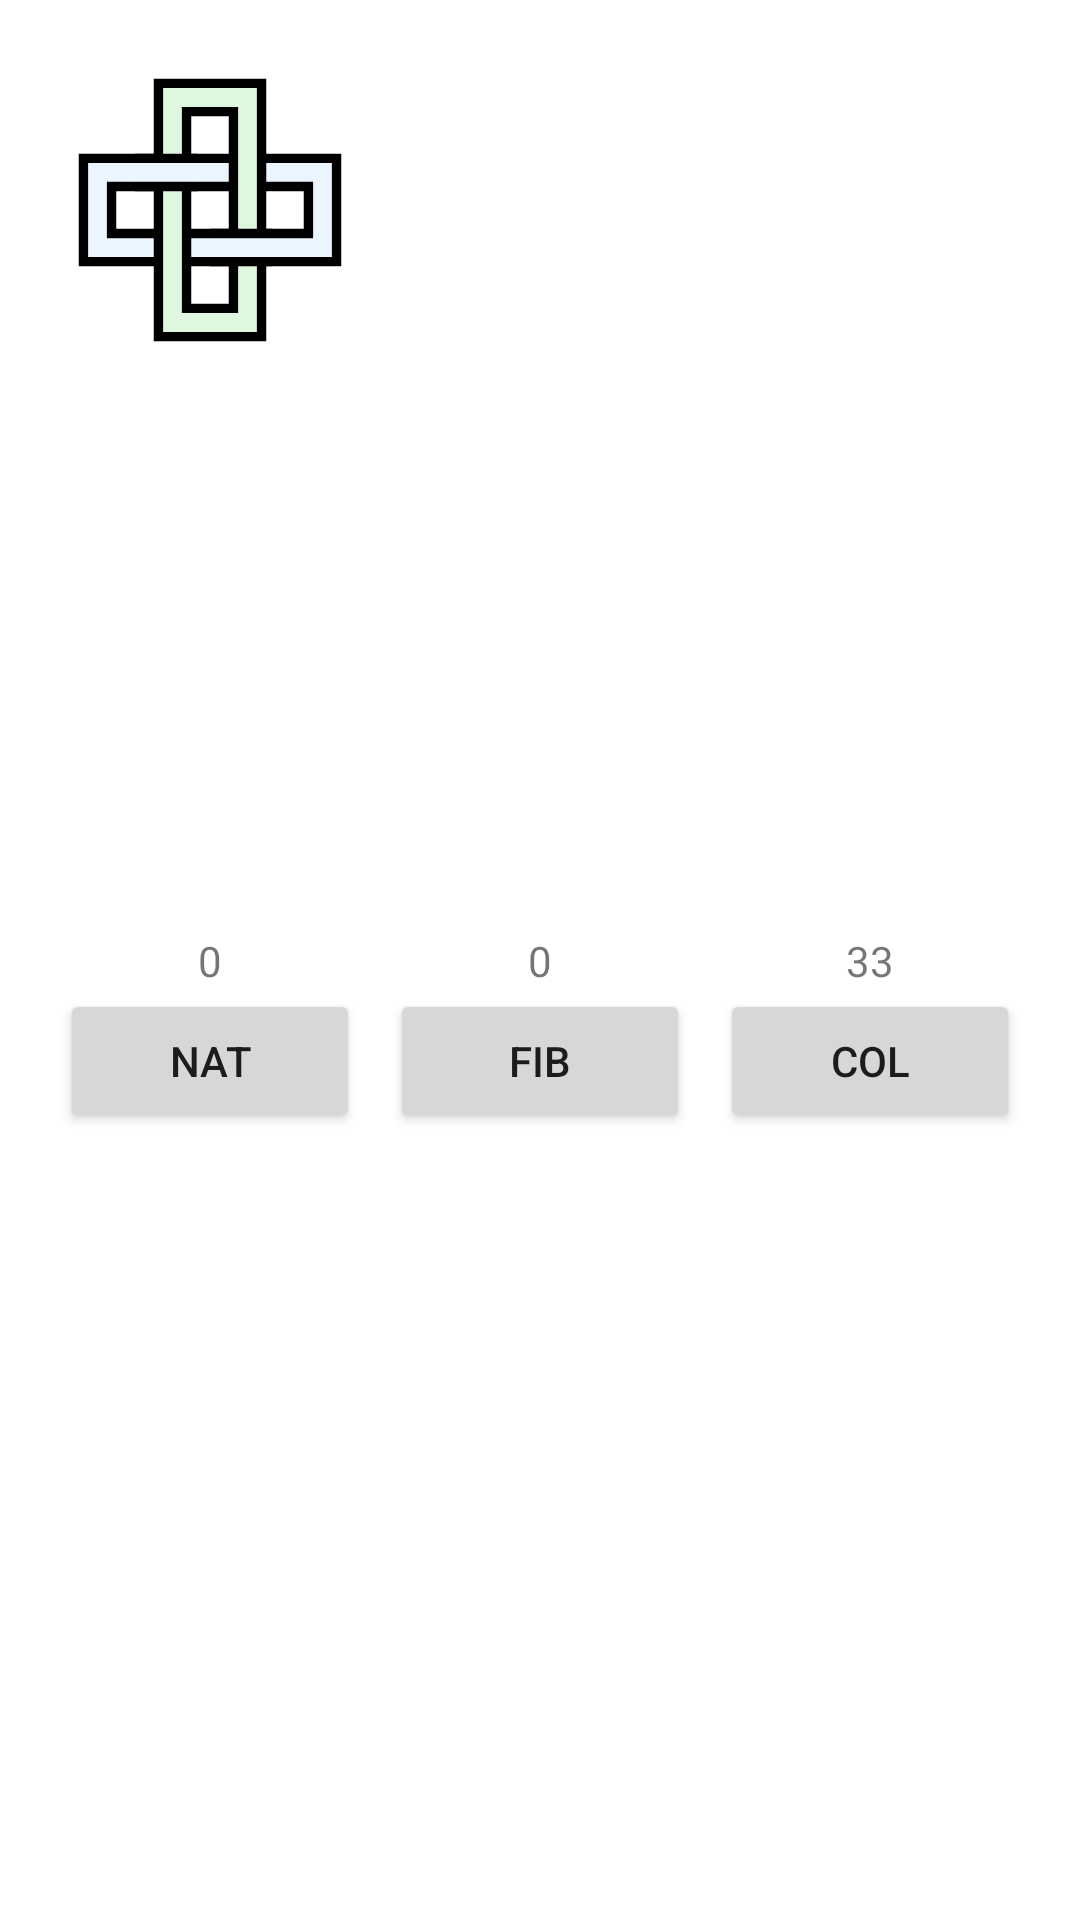

Locate icon controls on the screen. Image size 1080×1920, boxes as (x1, y1, x2, y2).
solomons knot: (78, 78, 342, 342)
